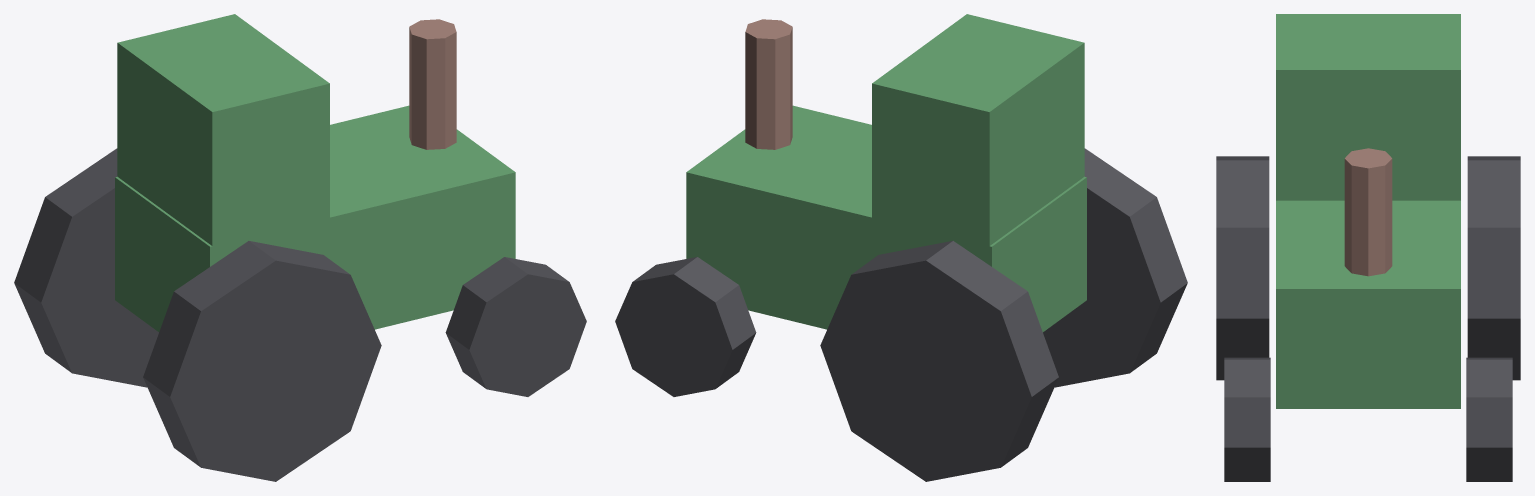
3 views of the same model, side by side, from view 1: azimuth 30°, elevation 25°; view 2: azimuth 150°, elevation 25°; view 3: azimuth 270°, elevation 25° (orthographic). The views are drawn at different scales.
Parts seen in each view (by area): view 1: part4, part0, part1, part3, part6, part2; view 2: part3, part0, part1, part4, part5, part2; view 3: part0, part1, part3, part4, part2, part5, part6.
Boxes of the visible parts, bbox=[...] form: part4: bbox=[143, 241, 381, 481]; part0: bbox=[115, 105, 515, 331]; part1: bbox=[117, 14, 329, 246]; part3: bbox=[14, 148, 158, 387]; part6: bbox=[445, 257, 586, 396]; part2: bbox=[409, 19, 456, 149]; part3: bbox=[820, 241, 1058, 481]; part0: bbox=[686, 105, 1086, 331]; part1: bbox=[872, 14, 1084, 246]; part4: bbox=[1043, 148, 1187, 387]; part5: bbox=[615, 257, 756, 396]; part2: bbox=[745, 19, 792, 149]; part0: bbox=[1276, 200, 1460, 408]; part1: bbox=[1276, 14, 1460, 200]; part3: bbox=[1467, 156, 1520, 380]; part4: bbox=[1216, 156, 1269, 380]; part2: bbox=[1344, 148, 1392, 276]; part5: bbox=[1466, 357, 1512, 481]; part6: bbox=[1224, 357, 1270, 481].
Size of the model in its own units: 3.58 by 2.89 by 2.3.
